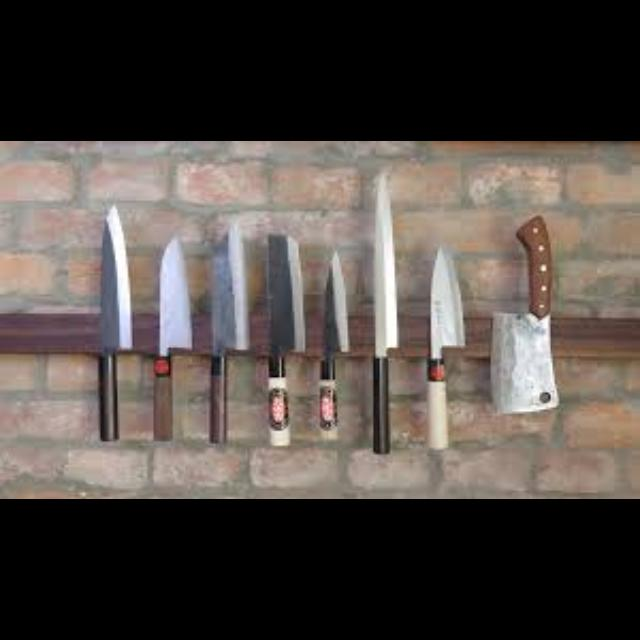knife: (489, 214, 559, 414), (207, 226, 251, 444), (267, 232, 307, 446), (425, 244, 465, 450), (152, 233, 192, 439), (98, 203, 132, 439), (372, 170, 396, 454), (318, 261, 350, 431)
